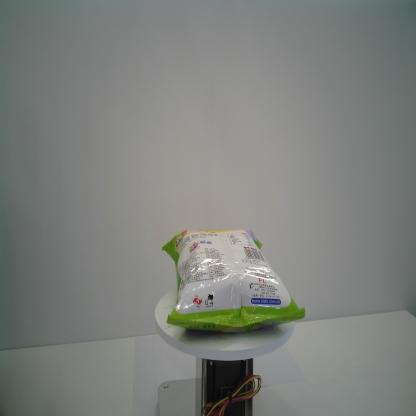Puffed Food: (160, 225, 308, 335)
